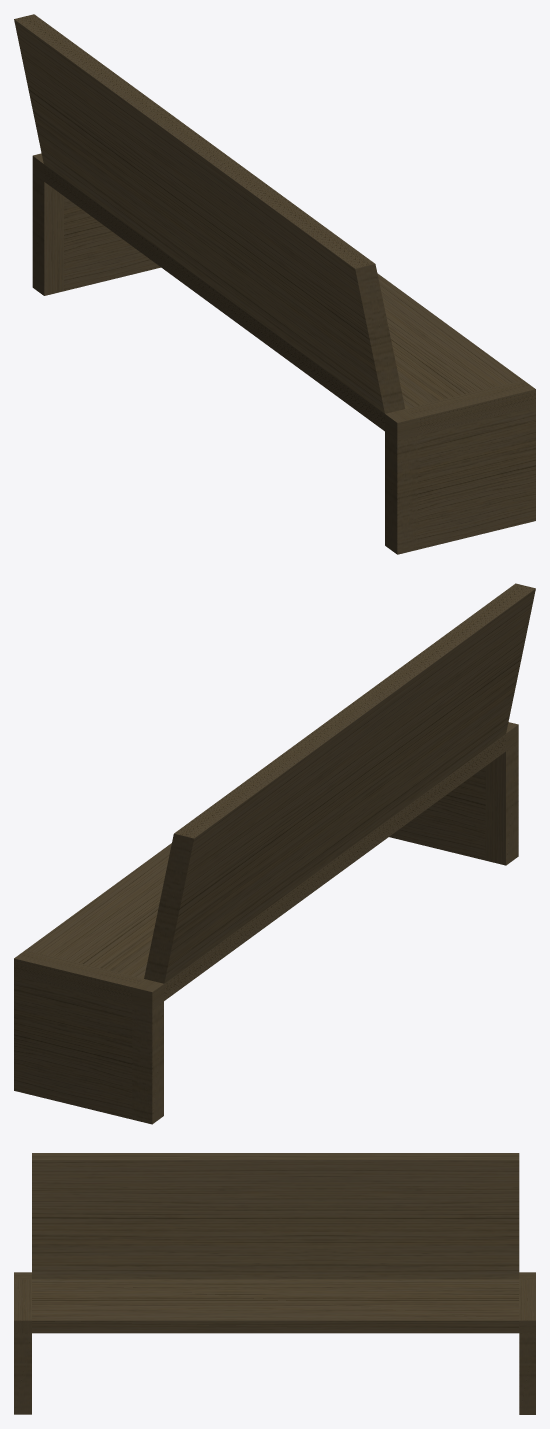
The model's file is Bank.fbx.
3 renders of one model, top to bottom at view 1: azimuth 30°, elevation 25°; view 2: azimuth 150°, elevation 25°; view 3: azimuth 270°, elevation 25°, orthographic. The views are drawn at different scales.
Parts seen in each view (by area): view 1: Bank; view 2: Bank; view 3: Bank.
Boxes of the visible parts, bbox=[...] form: Bank: bbox=[14, 14, 535, 554]; Bank: bbox=[14, 583, 535, 1124]; Bank: bbox=[14, 1153, 535, 1414].
Bounding box in the file's own units: 99.68 × 161 × 375.
